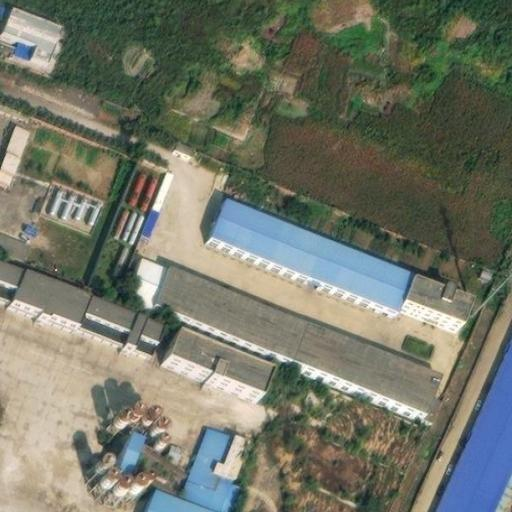building: (126, 248, 444, 406), (209, 189, 415, 305), (437, 336, 512, 512), (180, 419, 260, 512), (161, 329, 267, 393), (404, 263, 478, 315), (143, 482, 231, 512), (48, 188, 106, 231), (140, 162, 175, 230), (117, 420, 149, 466)
